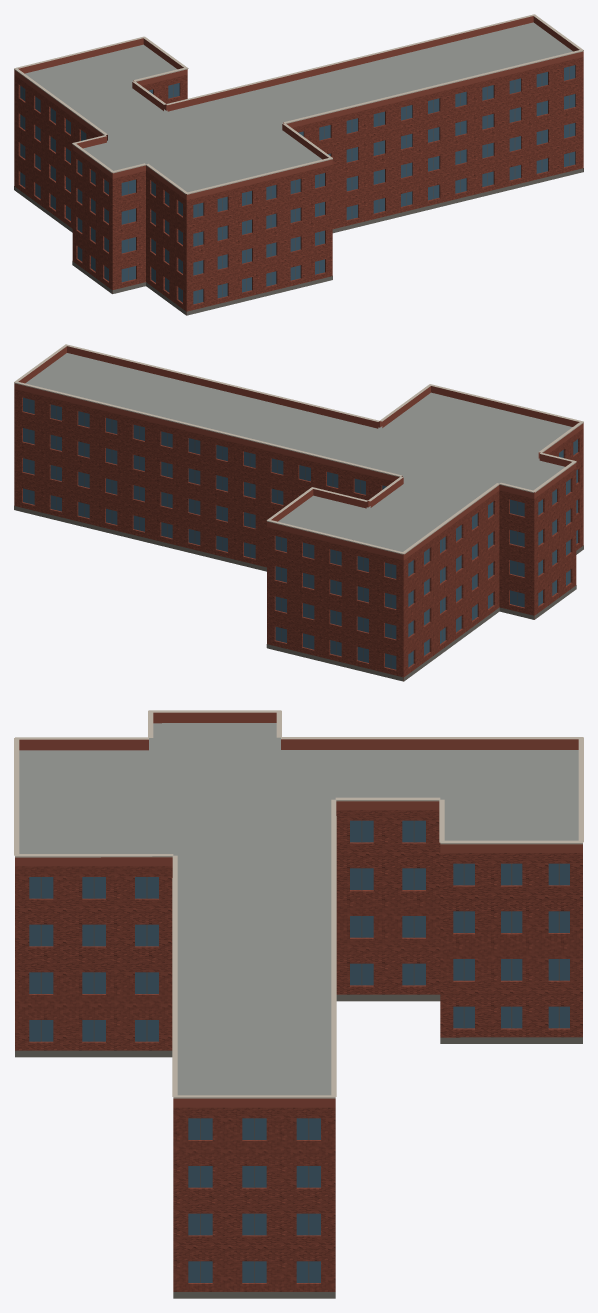
The picture shows the model from 3 angles, top to bottom: view 1: azimuth 30°, elevation 25°; view 2: azimuth 150°, elevation 25°; view 3: azimuth 270°, elevation 25°; orthographic projection. The views are drawn at different scales.
Visible parts, largest first — view 1: specialized__wall, specialized__roof, specialized__glass, specialized__parapet, specialized__trim, specialized__base, specialized__frame; view 2: specialized__wall, specialized__roof, specialized__glass, specialized__parapet, specialized__trim, specialized__base, specialized__frame; view 3: specialized__roof, specialized__wall, specialized__glass, specialized__parapet, specialized__trim, specialized__base, specialized__frame.
Part boxes in pixels (bbox=[...]): specialized__wall: bbox=[14, 57, 583, 314]; specialized__roof: bbox=[25, 22, 572, 192]; specialized__glass: bbox=[20, 65, 575, 304]; specialized__parapet: bbox=[14, 16, 583, 200]; specialized__trim: bbox=[14, 14, 583, 194]; specialized__base: bbox=[14, 168, 583, 315]; specialized__frame: bbox=[23, 66, 569, 302]; specialized__wall: bbox=[14, 389, 583, 680]; specialized__roof: bbox=[25, 353, 572, 551]; specialized__glass: bbox=[23, 397, 577, 669]; specialized__parapet: bbox=[14, 346, 583, 560]; specialized__trim: bbox=[14, 344, 583, 554]; specialized__base: bbox=[14, 506, 583, 681]; specialized__frame: bbox=[28, 399, 575, 668]; specialized__roof: bbox=[19, 723, 578, 1095]; specialized__wall: bbox=[15, 810, 582, 1291]; specialized__glass: bbox=[29, 820, 569, 1282]; specialized__parapet: bbox=[15, 712, 582, 1107]; specialized__trim: bbox=[14, 710, 583, 1098]; specialized__base: bbox=[15, 994, 582, 1298]; specialized__frame: bbox=[40, 820, 559, 1282].
Bounding box in the file's own units: 62.7 × 15.22 × 39.01.
7 materials, 1 textured.
